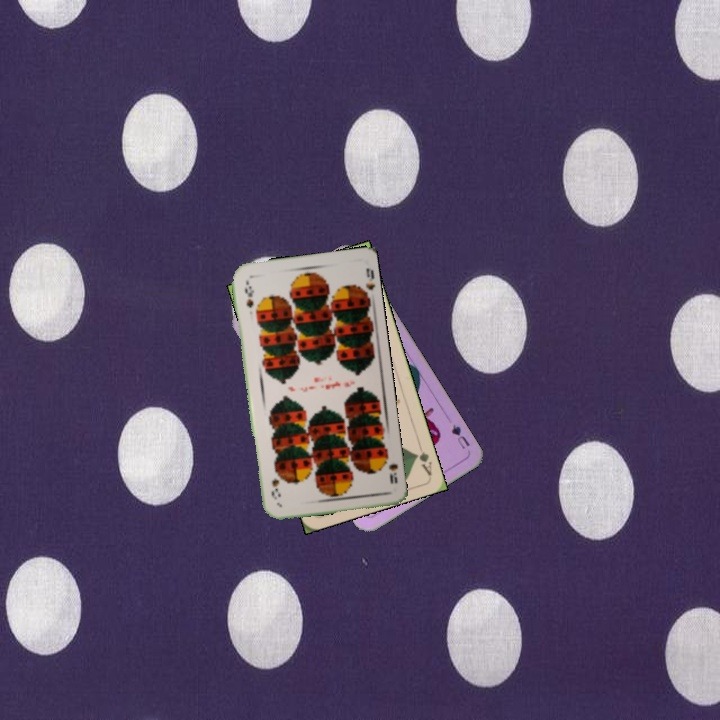GA: (411, 438, 434, 478)
GU: (447, 420, 473, 452)
S9: (379, 449, 400, 486), (241, 282, 256, 310)
